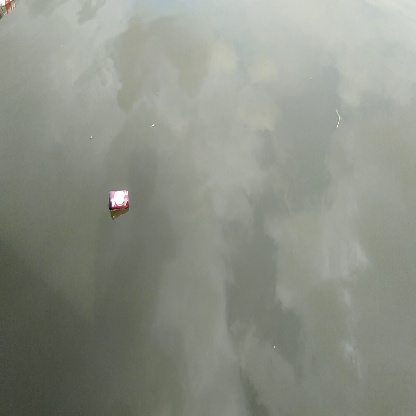bottle: (104, 187, 132, 212)
